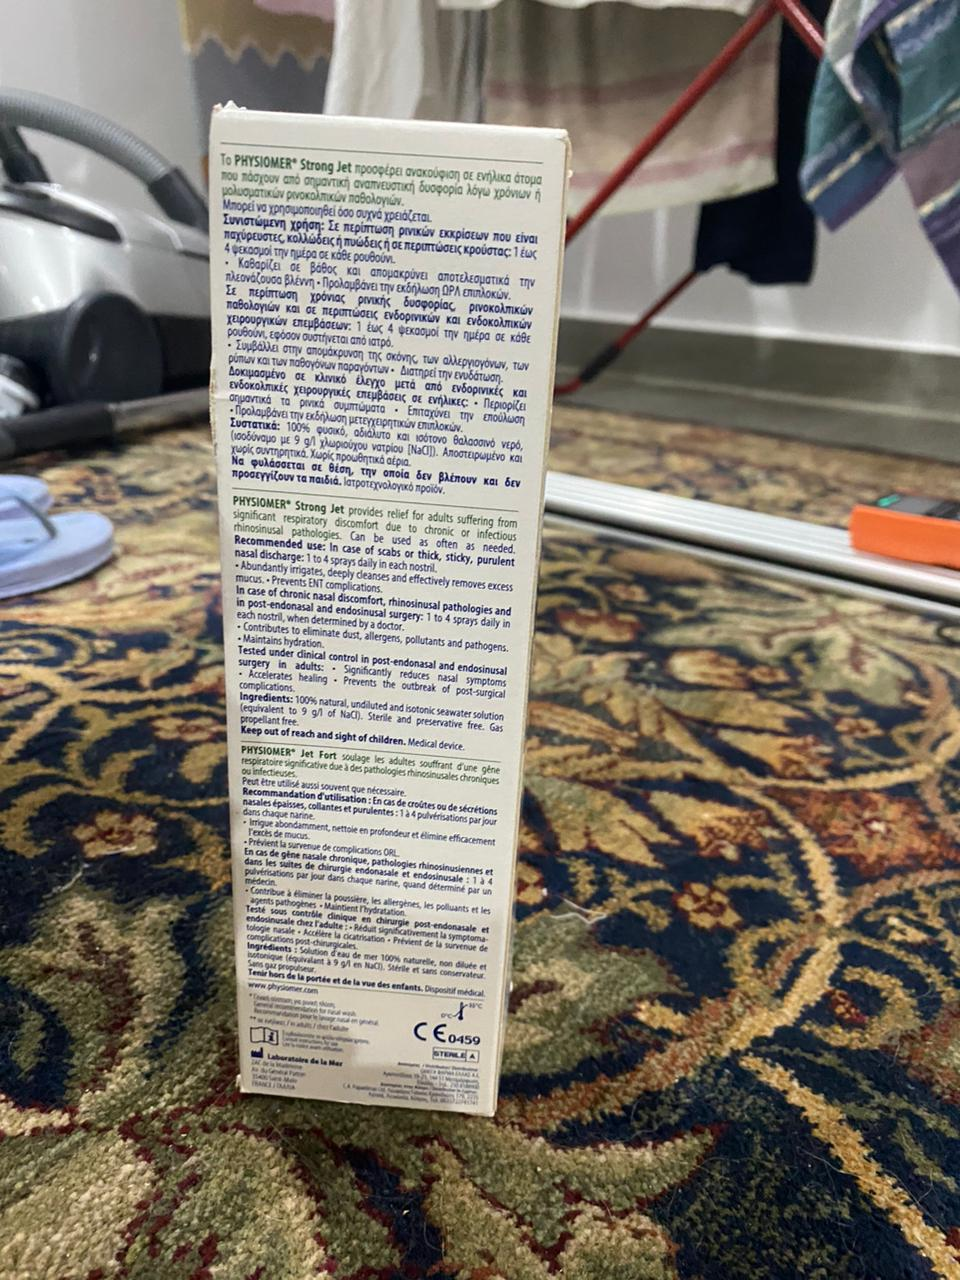Physiomer: (198, 101, 567, 1122)
